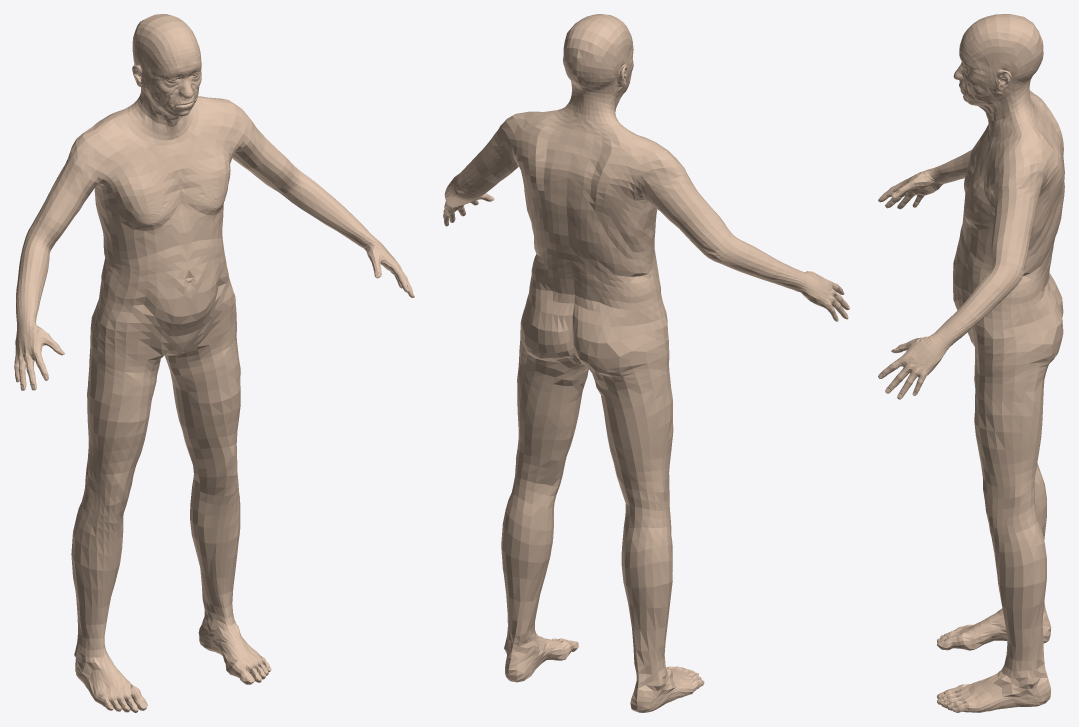
Rendered from male-elder-heavy-medium.glb.
The picture shows the model from 3 angles, left to right: view 1: azimuth 30°, elevation 25°; view 2: azimuth 150°, elevation 25°; view 3: azimuth 270°, elevation 25°; orthographic projection.
Parts seen in each view (by area): view 1: world; view 2: world; view 3: world.
Boxes of the visible parts, x1=… form: world: x1=14, y1=14, x2=414, y2=712; world: x1=443, y1=14, x2=849, y2=712; world: x1=878, y1=14, x2=1064, y2=712.
Size of the model in its own units: 1.2 by 1.92 by 0.4955.
